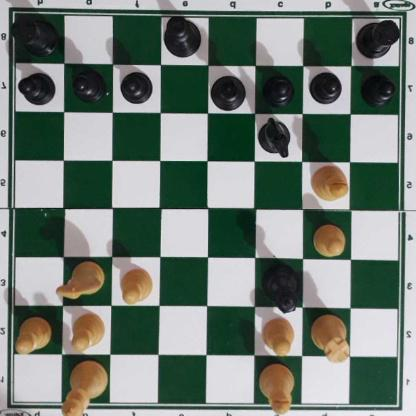black-bishop: (210, 75, 249, 112)
black-king: (163, 15, 204, 58)
black-knight: (258, 115, 294, 158)
black-pawn: (20, 69, 56, 105), (311, 70, 343, 104), (121, 68, 153, 102), (263, 72, 295, 106), (363, 72, 396, 104), (73, 67, 105, 100)
black-queen: (261, 261, 300, 315)
black-rook: (356, 15, 403, 58), (11, 13, 59, 55)
white-bishop: (257, 363, 295, 414), (311, 164, 350, 201)
white-king: (60, 358, 110, 416)
white-knight: (56, 259, 108, 299)
white-pawn: (69, 310, 107, 351), (262, 316, 297, 356), (16, 315, 53, 352), (118, 266, 154, 304), (312, 223, 347, 257)
white-rook: (313, 313, 350, 361)
